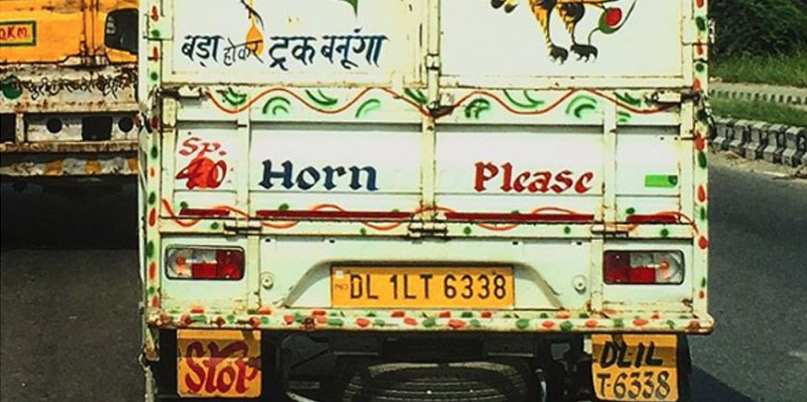doublelinenumberplate: (586, 331, 678, 400)
numberplate: (328, 259, 515, 309)
